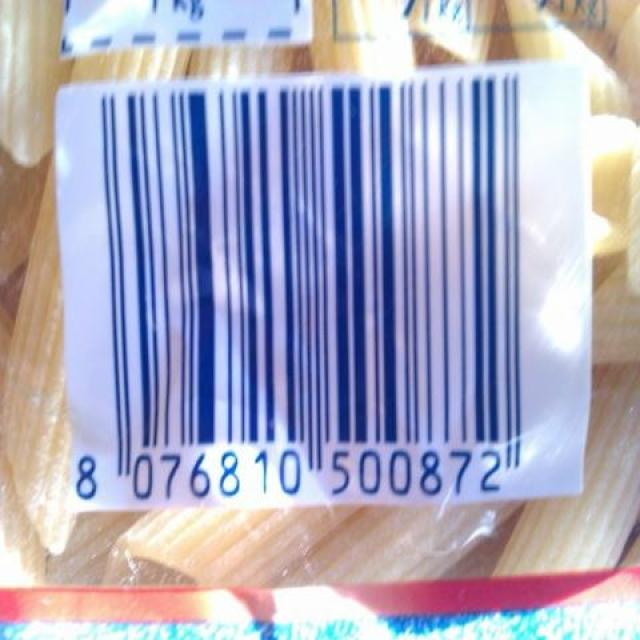Barcode: (54, 56, 593, 507)
